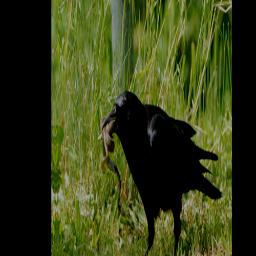Crow: (100, 76, 222, 256)
